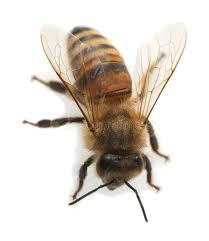Apis-mellifera-scutellata: (19, 18, 191, 225)
